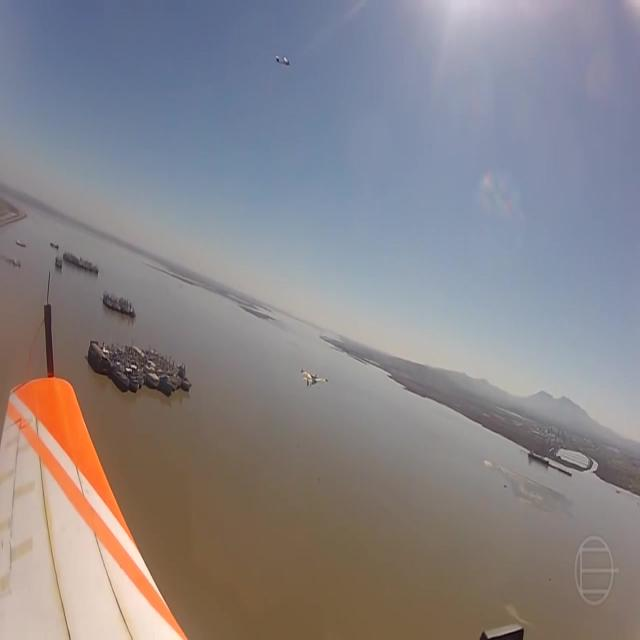iha: (301, 366, 329, 390), (276, 54, 292, 67)
